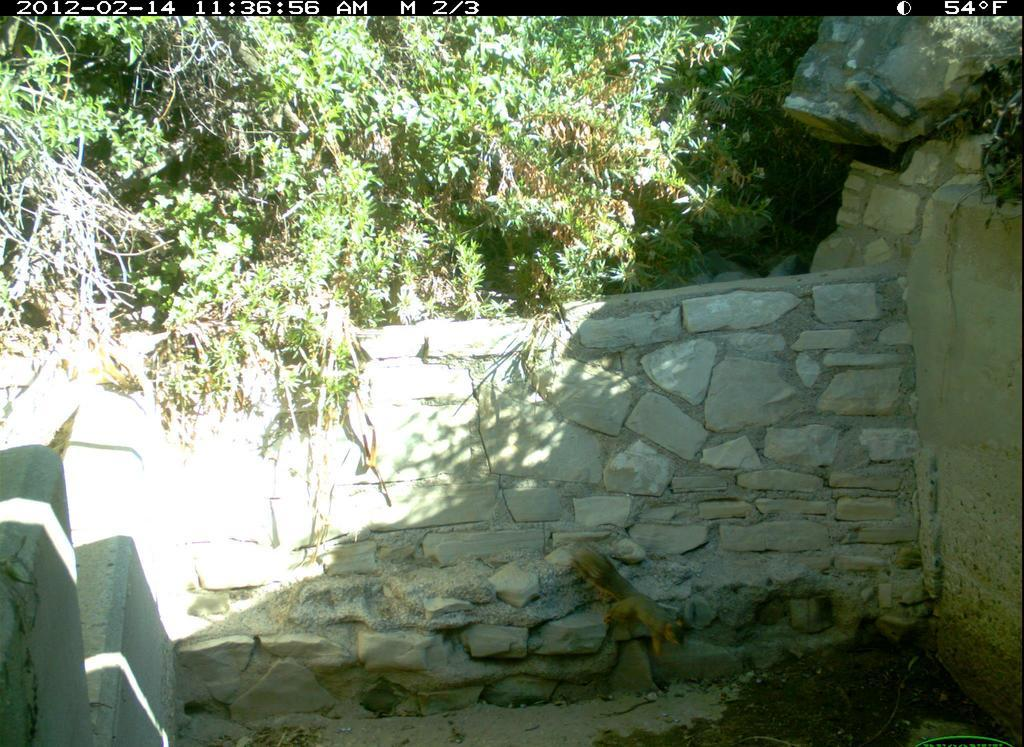squirrel: (566, 535, 691, 664)
